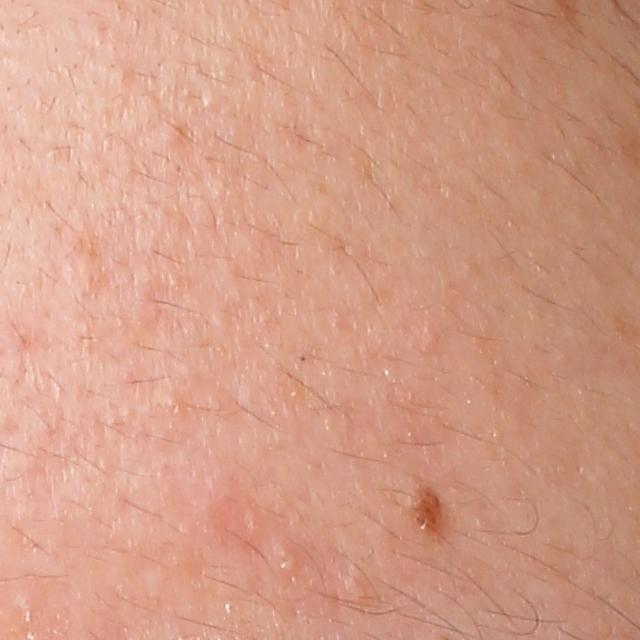comedo: (273, 541, 303, 577), (153, 121, 186, 147), (194, 86, 220, 112)
nevus: (405, 475, 446, 536)
